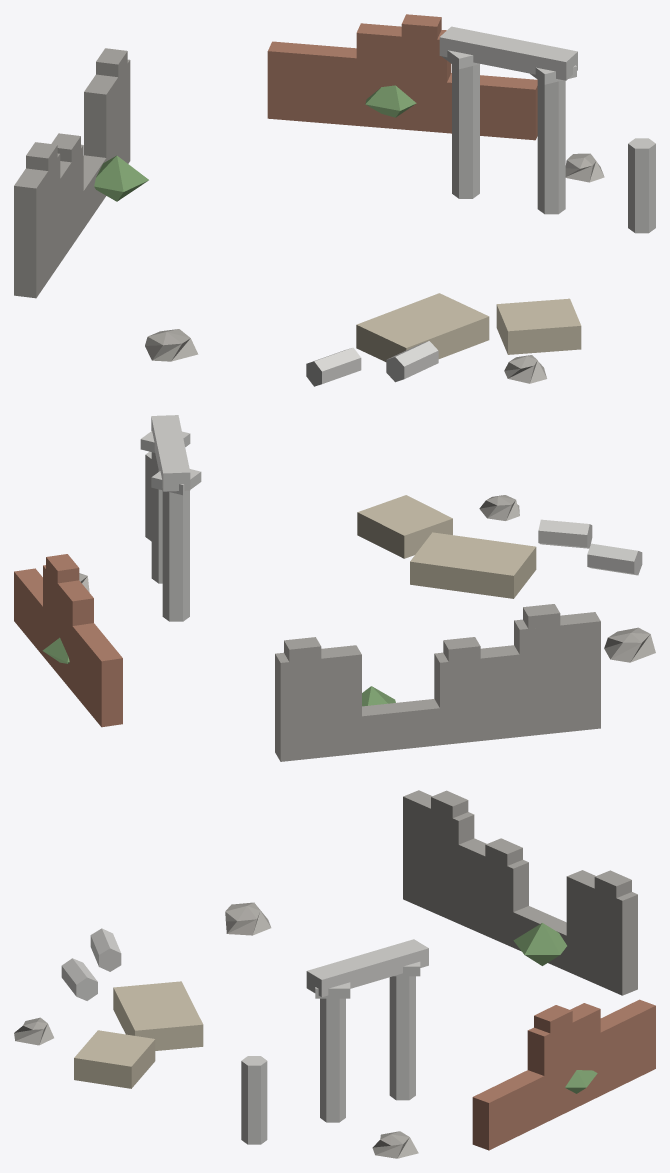
The model's file is city-ruins.glb.
3 renders of one model, top to bottom at view 1: azimuth 30°, elevation 25°; view 2: azimuth 150°, elevation 25°; view 3: azimuth 270°, elevation 25°, orthographic. The views are drawn at different scales.
Visible parts, largest first — view 1: LOD0; view 2: LOD0; view 3: LOD0.
Part boxes in pixels (x1,y1,x2,y2): LOD0: [14, 14, 655, 386]; LOD0: [14, 415, 655, 761]; LOD0: [14, 790, 655, 1158].
Size of what is drawn, in the model's own units: 1.43 by 0.402 by 1.47.
